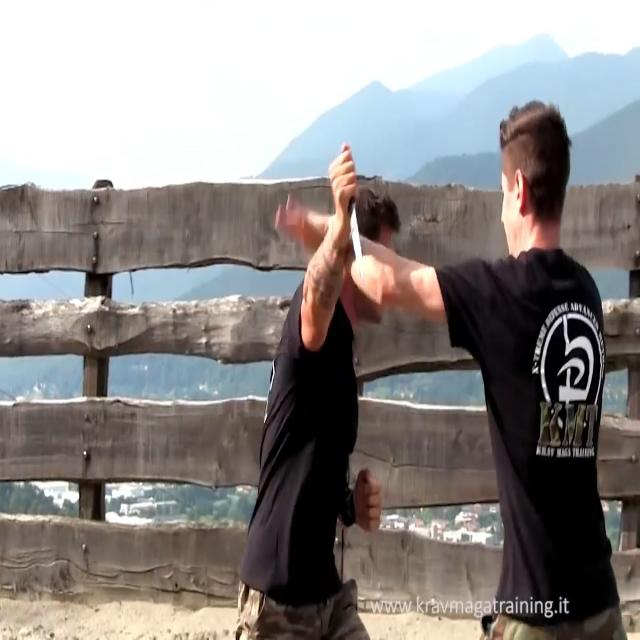knife: (347, 203, 367, 287)
